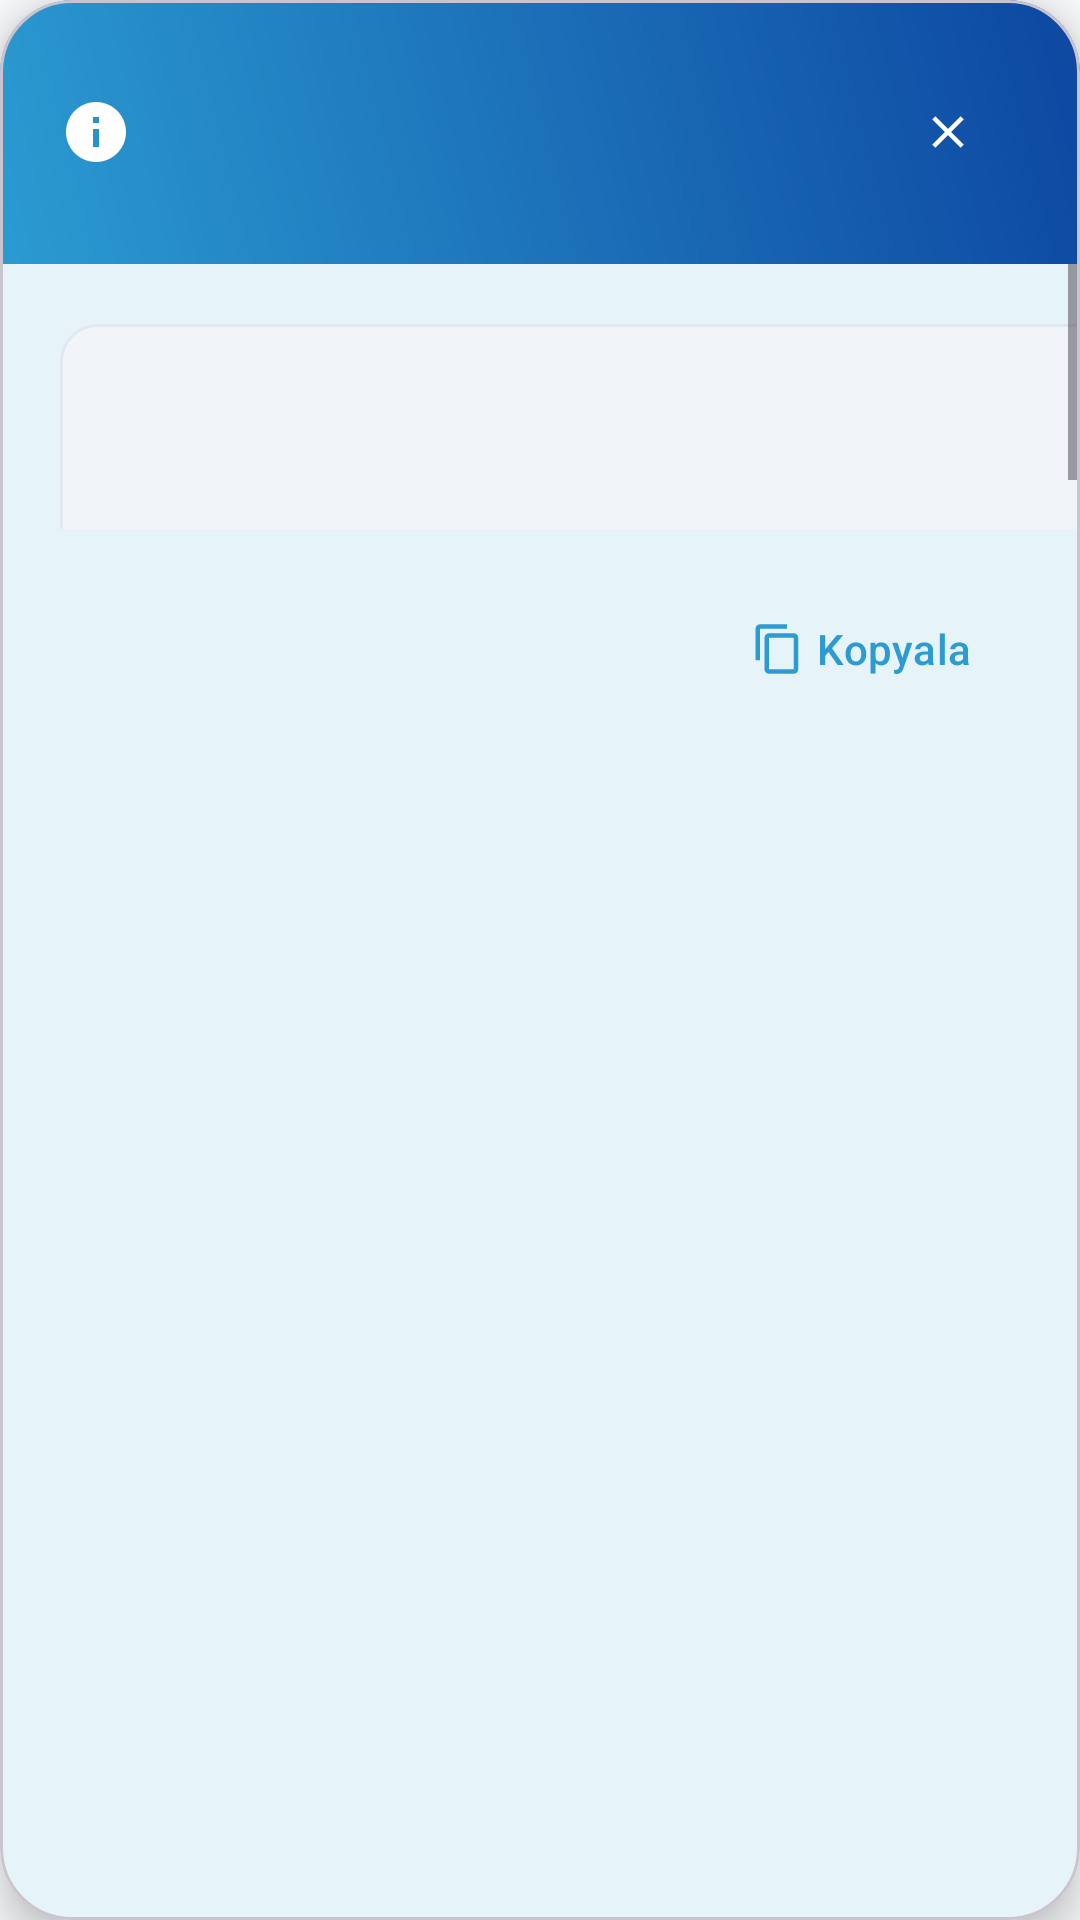

Point at icon controls on the screen. Image size 1080px x 1920px, points as [x,y].
close: [948,132]
info: [96,132]
